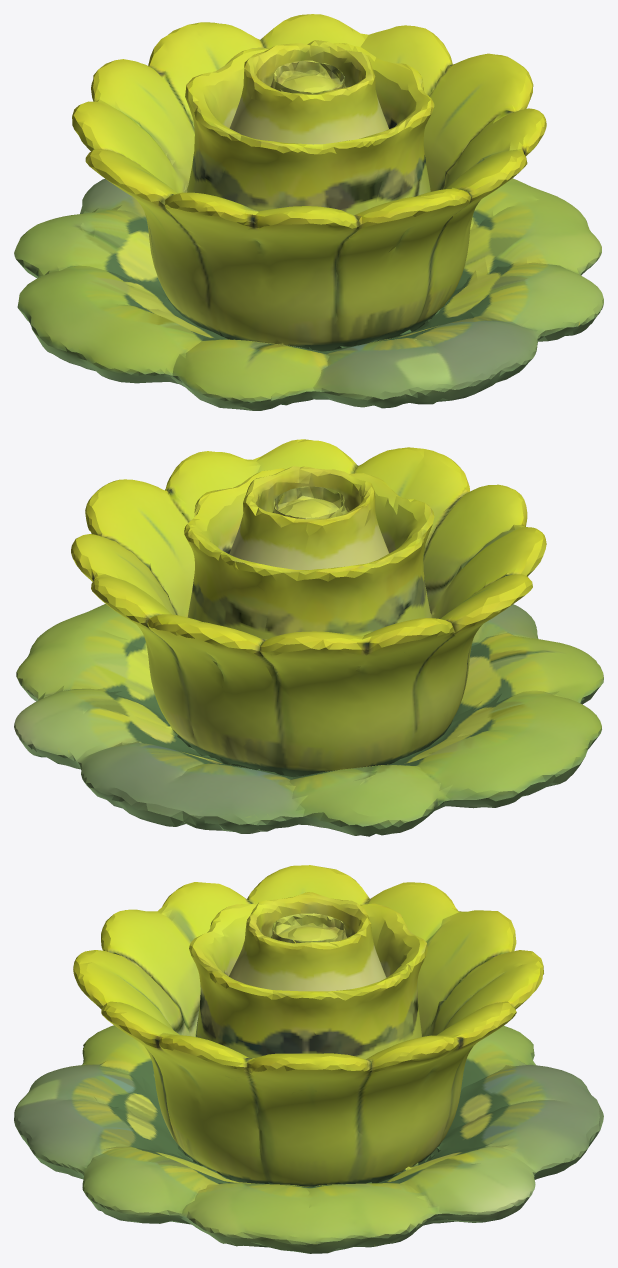
File: crop_lettuce.glb
3 renders of one model, top to bottom at view 1: azimuth 30°, elevation 25°; view 2: azimuth 150°, elevation 25°; view 3: azimuth 270°, elevation 25°, orthographic. The views are drawn at different scales.
Parts seen in each view (by area): view 1: crop_lettuce; view 2: crop_lettuce; view 3: crop_lettuce.
Part boxes in pixels (left/top/right/bottom): crop_lettuce: left=14, top=14, right=603, bottom=410; crop_lettuce: left=14, top=439, right=603, bottom=836; crop_lettuce: left=14, top=865, right=603, bottom=1253.
Size of the model in its own units: 0.9999 by 0.4921 by 1.
1 material, 1 textured.
